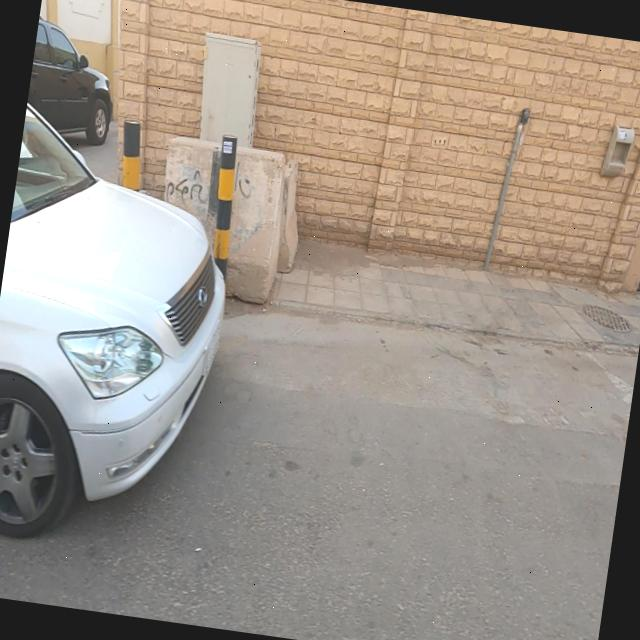Graffiti: (167, 170, 213, 214), (231, 162, 258, 203)
